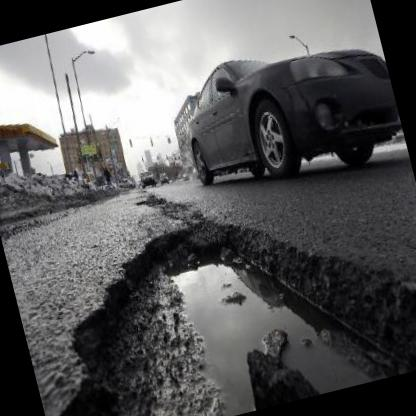pothole: (7, 161, 416, 416)
